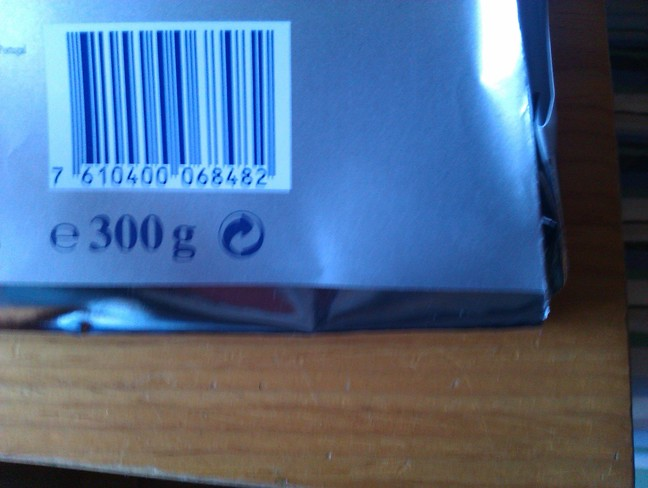barcode: (43, 22, 285, 194)
